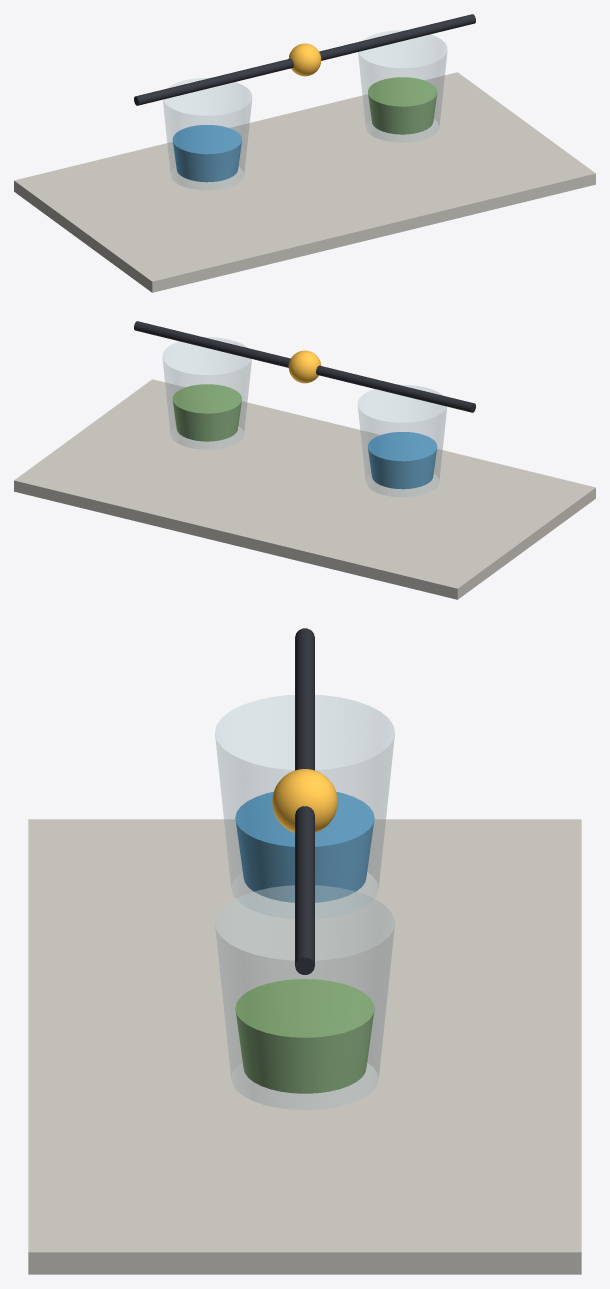
File: chem-reaction-conservation-of-mass.glb
3 views of the same model, one above another, from view 1: azimuth 30°, elevation 25°; view 2: azimuth 150°, elevation 25°; view 3: azimuth 270°, elevation 25° (orthographic). The views are drawn at different scales.
Visible parts, largest first — view 1: reaction-base, glass-wall (×2), liquid-fill (×2), balance-beam, equal-mass-pivot; view 2: reaction-base, glass-wall (×2), liquid-fill (×2), balance-beam, equal-mass-pivot; view 3: reaction-base, glass-wall (×2), liquid-fill (×2), balance-beam, equal-mass-pivot.
Part boxes in pixels (x1,y1,x2,y2): reaction-base: [14, 72, 595, 292]; glass-wall (×2): [163, 30, 447, 189]; liquid-fill (×2): [172, 77, 437, 182]; balance-beam: [134, 14, 475, 105]; equal-mass-pivot: [288, 43, 321, 76]; reaction-base: [14, 379, 595, 599]; glass-wall (×2): [162, 337, 446, 496]; liquid-fill (×2): [172, 384, 437, 489]; balance-beam: [134, 321, 475, 412]; equal-mass-pivot: [288, 350, 321, 383]; reaction-base: [28, 819, 581, 1274]; glass-wall (×2): [215, 695, 394, 1109]; liquid-fill (×2): [235, 791, 374, 1093]; balance-beam: [295, 628, 314, 974]; equal-mass-pivot: [272, 769, 337, 832].
Size of what is drawn, in the model's own units: 2.5 by 0.77 by 1.35.
